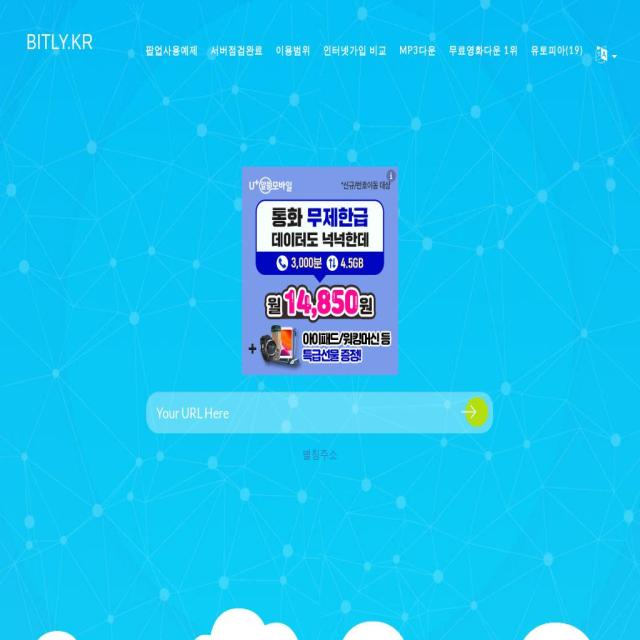button: (17, 21, 102, 79), (442, 21, 524, 81), (317, 21, 393, 81), (204, 21, 270, 81), (524, 21, 590, 81), (140, 21, 204, 81), (393, 21, 443, 81), (269, 21, 317, 81), (462, 397, 489, 428)
field: (146, 392, 494, 433)
iframe: (241, 167, 398, 375)
image: (462, 397, 489, 428)
link: (302, 447, 337, 461)
text: (589, 21, 623, 84), (449, 43, 518, 57), (323, 43, 387, 57), (146, 43, 198, 57), (211, 43, 263, 57), (531, 43, 583, 57), (399, 43, 436, 57), (276, 43, 310, 57)
